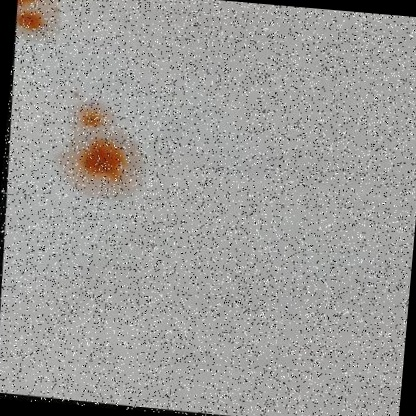kimchi: (64, 105, 132, 195), (14, 0, 53, 35)
